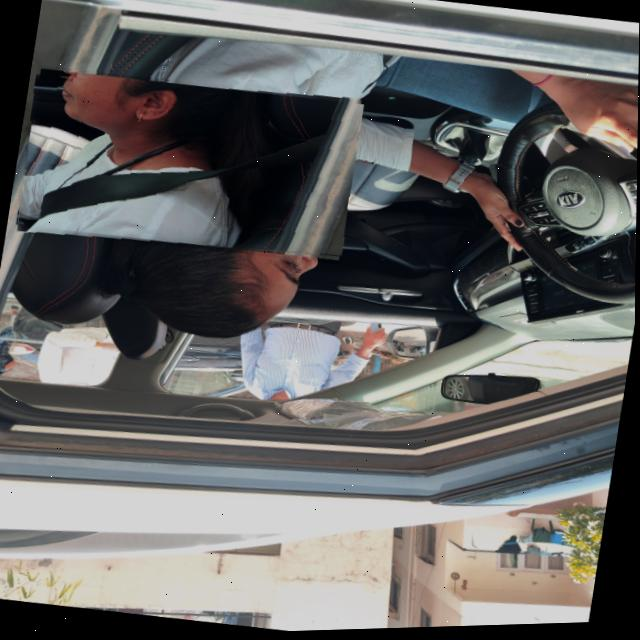seatbelt: (13, 58, 366, 274)
